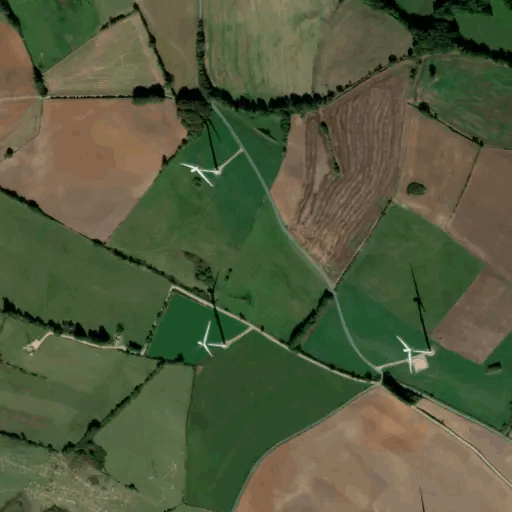wt: (393, 265, 441, 378), (175, 104, 227, 193), (192, 268, 232, 360)
